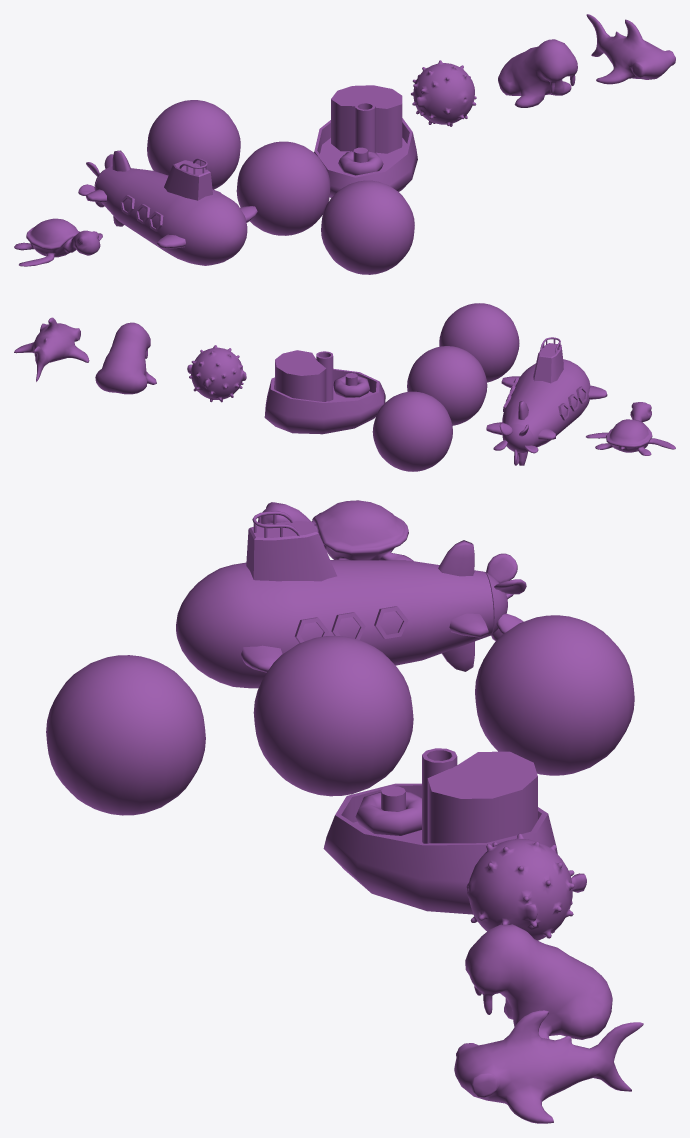
File: WaterToys.fbx
3 renders of one model, top to bottom at view 1: azimuth 30°, elevation 25°; view 2: azimuth 150°, elevation 25°; view 3: azimuth 270°, elevation 25°, orthographic. The views are drawn at different scales.
Visible parts, largest first — view 1: SubmarineToy_01, Boat_01, Ball_01, Ball_02, Ball_03, Walrus_01, Shark_01, BlowFish_01, Turtle_01; view 2: Boat_01, SubmarineToy_01, Ball_03, Ball_02, Ball_01, Walrus_01, BlowFish_01, Turtle_01, Shark_01; view 3: SubmarineToy_01, Boat_01, Ball_01, Ball_02, Ball_03, Walrus_01, Shark_01, BlowFish_01, Turtle_01.
Boxes of the visible parts, x1,y1,x2,y2 form: SubmarineToy_01: (78,150,257,265); Boat_01: (314,85,417,198); Ball_01: (321,180,414,274); Ball_02: (236,141,330,235); Ball_03: (147,100,240,189); Walrus_01: (498,39,577,107); Shark_01: (586,14,675,84); BlowFish_01: (411,60,476,126); Turtle_01: (14,218,102,266); Boat_01: (264,350,385,434); SubmarineToy_01: (486,337,607,465); Ball_03: (372,391,452,471); Ball_02: (407,346,487,425); Ball_01: (439,303,519,382); Walrus_01: (95,322,156,394); BlowFish_01: (187,345,246,402); Turtle_01: (586,402,675,455); Shark_01: (14,317,89,381); SubmarineToy_01: (176,511,526,688); Boat_01: (323,748,557,914); Ball_01: (46,655,205,815); Ball_02: (253,636,413,796); Ball_03: (475,615,634,775); Walrus_01: (465,924,612,1039); Shark_01: (454,1010,643,1123); BlowFish_01: (466,833,586,940); Turtle_01: (258,500,413,561).
Bounding box in the file's own units: 217 × 32.38 × 92.57.
